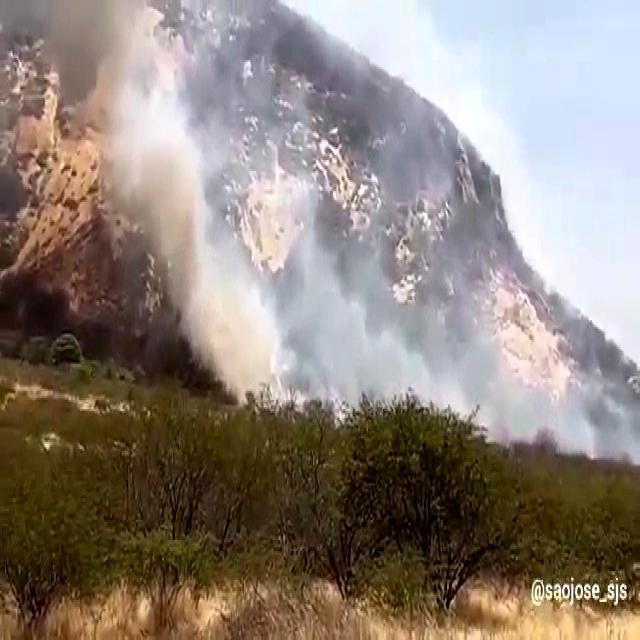Smoke: (63, 0, 275, 400), (236, 176, 481, 427), (486, 330, 640, 462)
